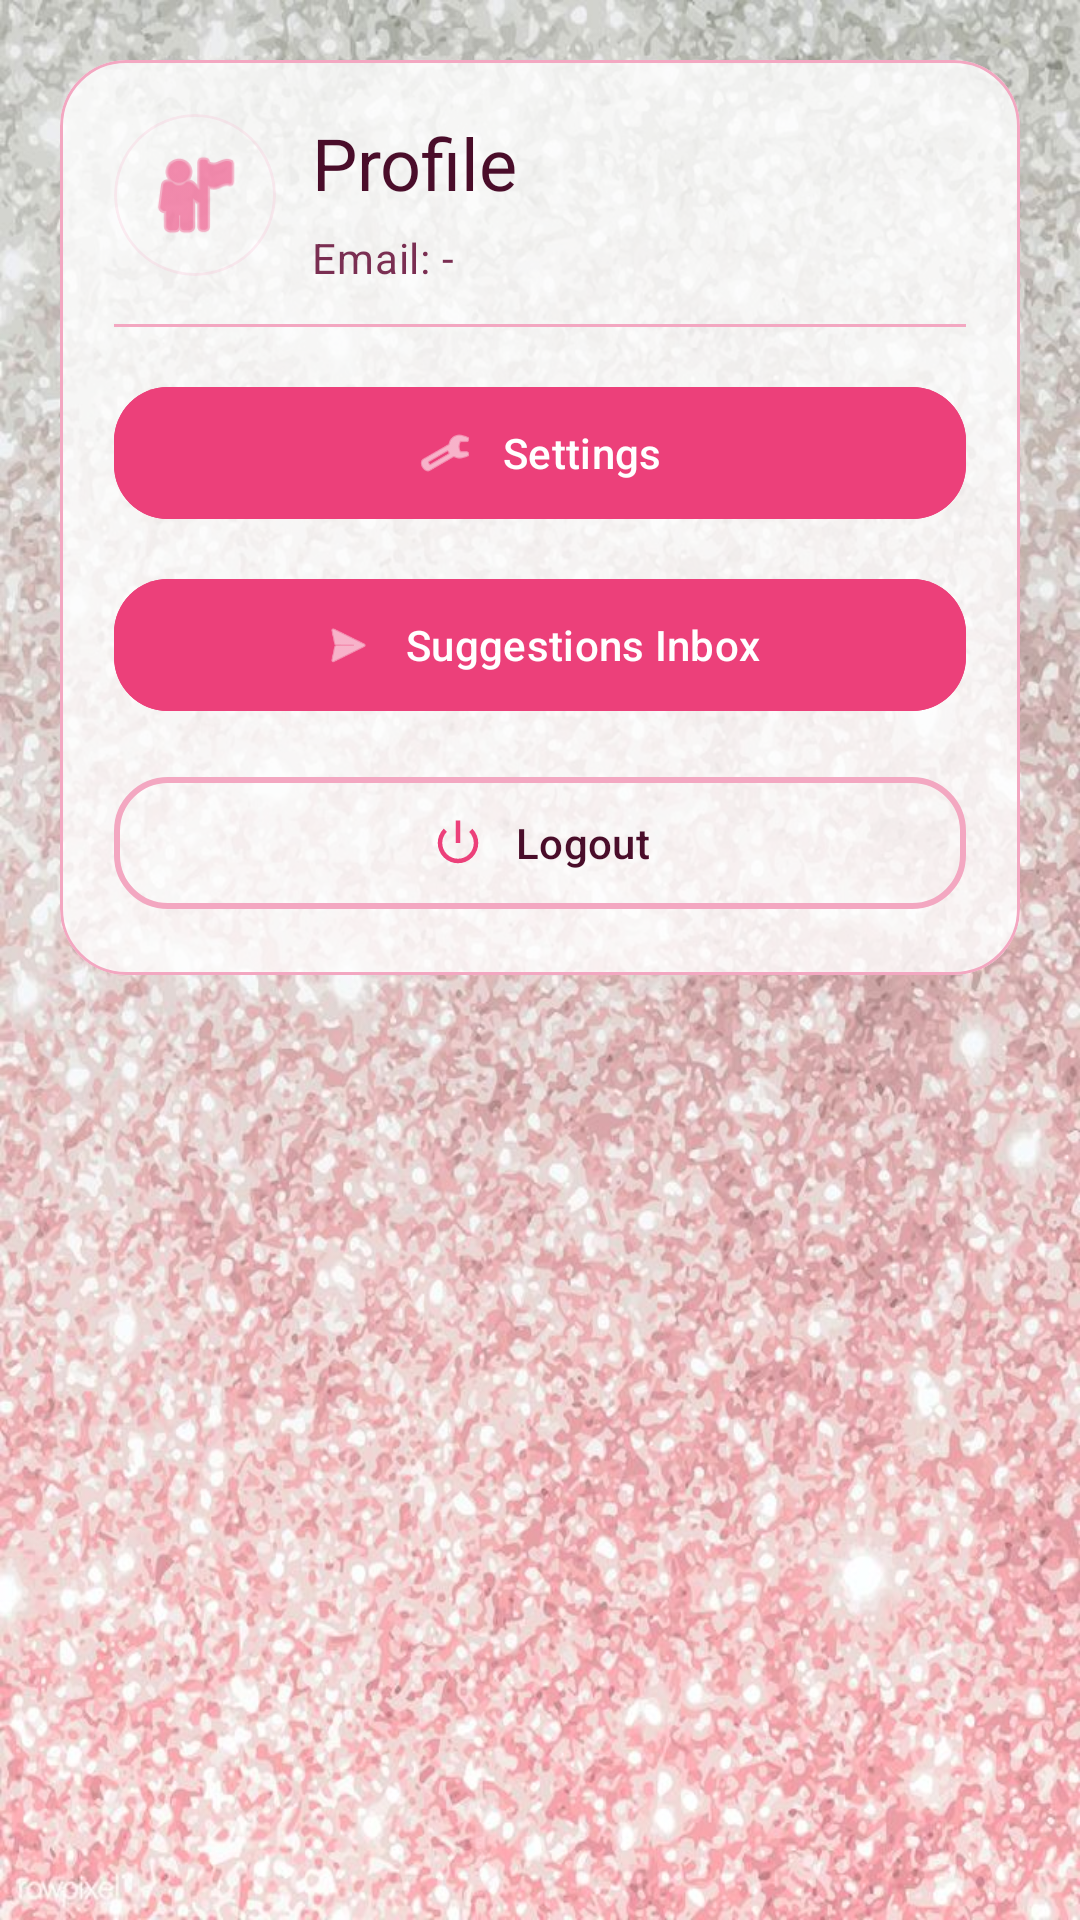

Point at icon controls on the screen. Image size 1080x1920, points as point (x, y).
avatar: point (196, 195)
